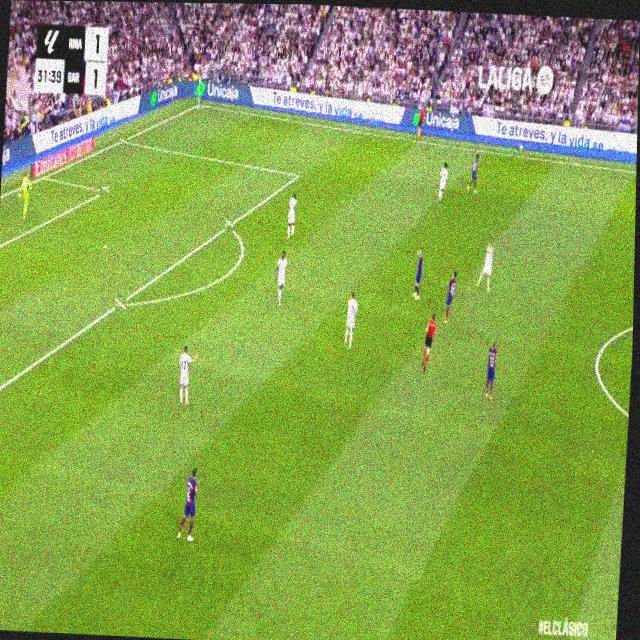bigarea_top_inner: (293, 166, 301, 183)
bigarea_top_outter: (119, 133, 127, 146)
bottom_arc_area_intersection: (114, 291, 127, 313)
corner: (193, 97, 203, 109)
smallarea_top_inner: (99, 182, 109, 198)
top_arc_area_intersection: (224, 216, 233, 234)
